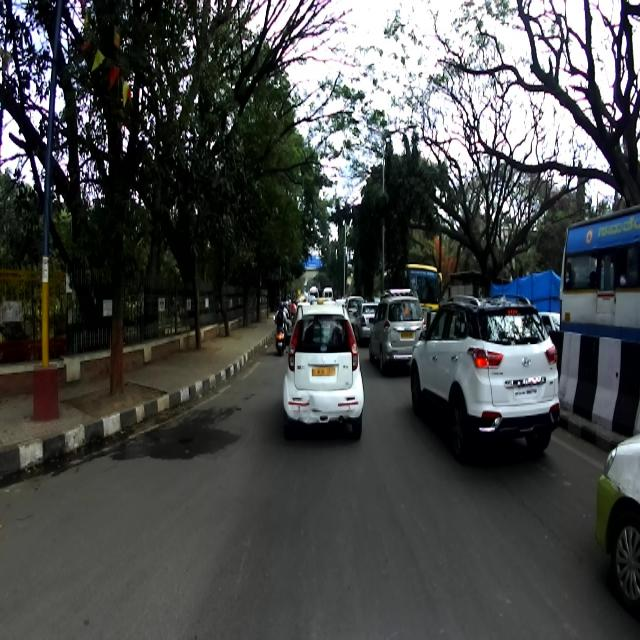car: (409, 294, 560, 460), (282, 302, 363, 440), (368, 287, 426, 373)
